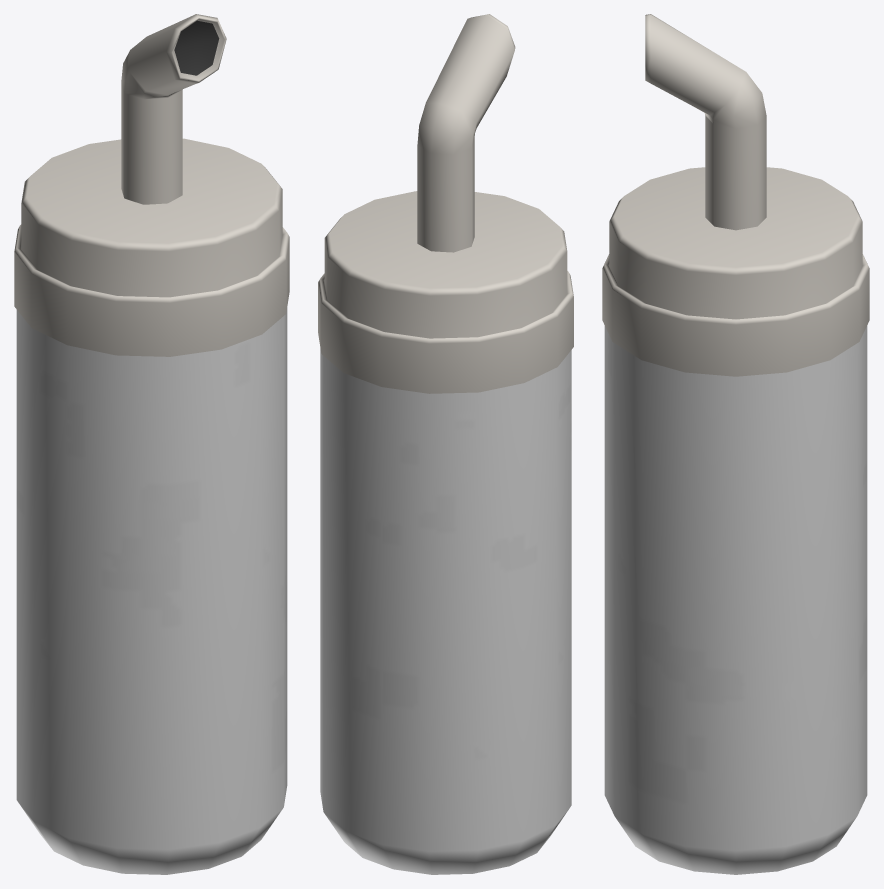
File: pi_vinegar02.gltf
The picture shows the model from 3 angles, left to right: view 1: azimuth 30°, elevation 25°; view 2: azimuth 150°, elevation 25°; view 3: azimuth 270°, elevation 25°; orthographic projection. The views are drawn at different scales.
Parts seen in each view (by area): view 1: pi_vinegar02_bottle01_mesh_shape:pi_vinegar02_glass, pi_vinegar02_tube01_mesh_shape:pi_vinegar02_lid; view 2: pi_vinegar02_bottle01_mesh_shape:pi_vinegar02_glass, pi_vinegar02_tube01_mesh_shape:pi_vinegar02_lid; view 3: pi_vinegar02_bottle01_mesh_shape:pi_vinegar02_glass, pi_vinegar02_tube01_mesh_shape:pi_vinegar02_lid.
Part boxes in pixels (x1=…): pi_vinegar02_bottle01_mesh_shape:pi_vinegar02_glass: x1=16, y1=308, x2=287, y2=874; pi_vinegar02_tube01_mesh_shape:pi_vinegar02_lid: x1=14, y1=14, x2=289, y2=356; pi_vinegar02_bottle01_mesh_shape:pi_vinegar02_glass: x1=320, y1=348, x2=571, y2=874; pi_vinegar02_tube01_mesh_shape:pi_vinegar02_lid: x1=318, y1=14, x2=573, y2=393; pi_vinegar02_bottle01_mesh_shape:pi_vinegar02_glass: x1=604, y1=326, x2=867, y2=874; pi_vinegar02_tube01_mesh_shape:pi_vinegar02_lid: x1=602, y1=14, x2=869, y2=376.
Bounding box in the file's own units: 0.0675 × 0.2266 × 0.0675.
3 materials, 3 textured.
